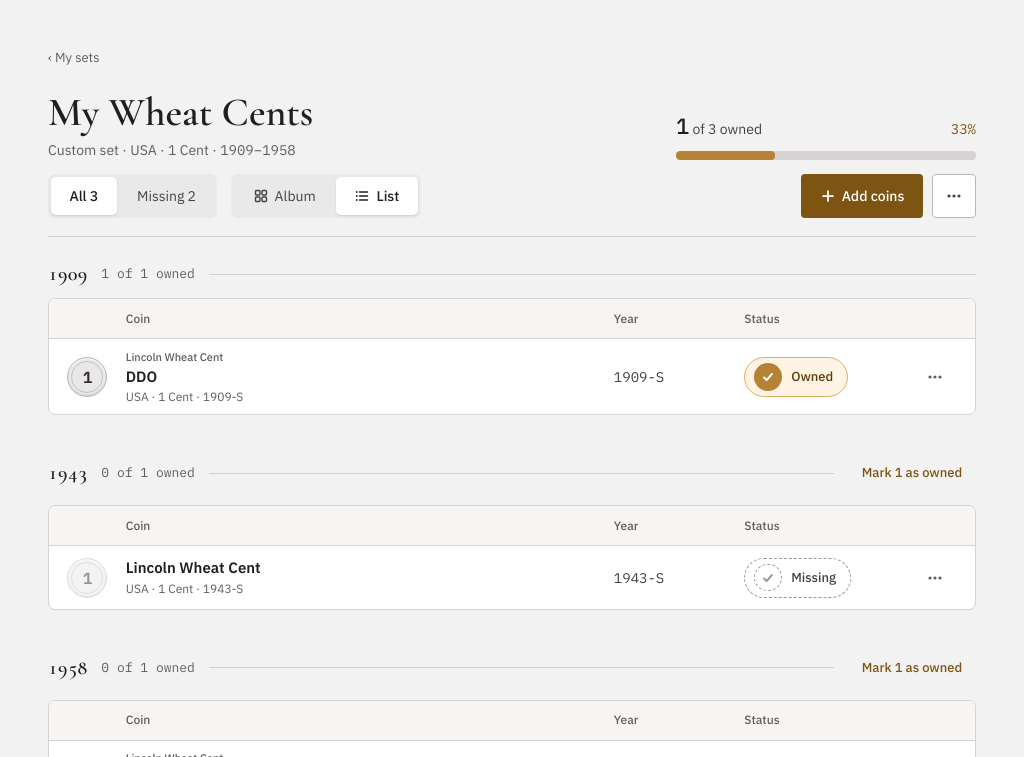
SetEditorPage: coin variety and link to coin page (List view) › run_20261017_142658 / run_20261018_161537: Add-coins sheet rows use the name block › shows the getCoinName title and subtitle for each catalog result, and the old label text is gone
Click the button with test id "set-editor-toggle-add-coins" at (862, 196), box [801, 174, 923, 218]
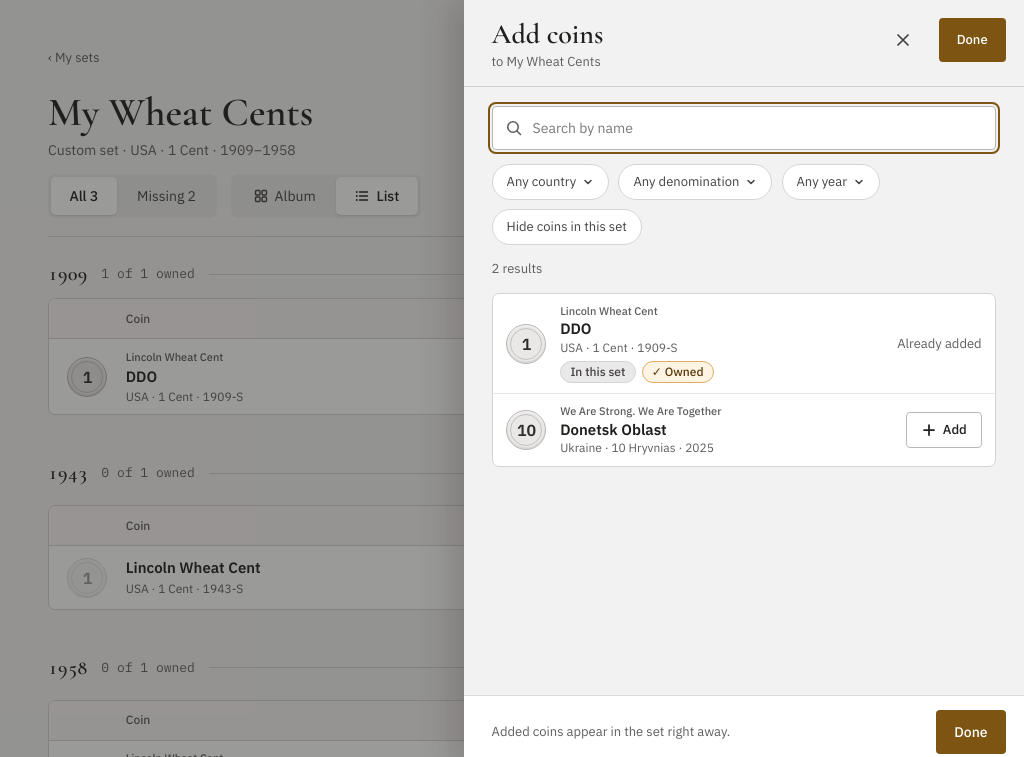
Expected: the number of list items with test id "add-coins-row" is 2, [493, 294, 995, 394]; [493, 394, 995, 466]
Expected: the link with test id "add-coins-row-title" reads "DDO", [560, 319, 592, 339]
Expected: the text with test id "add-coins-row-subtitle" reads "USA · 1 Cent · 1909-S", [560, 340, 678, 355]
